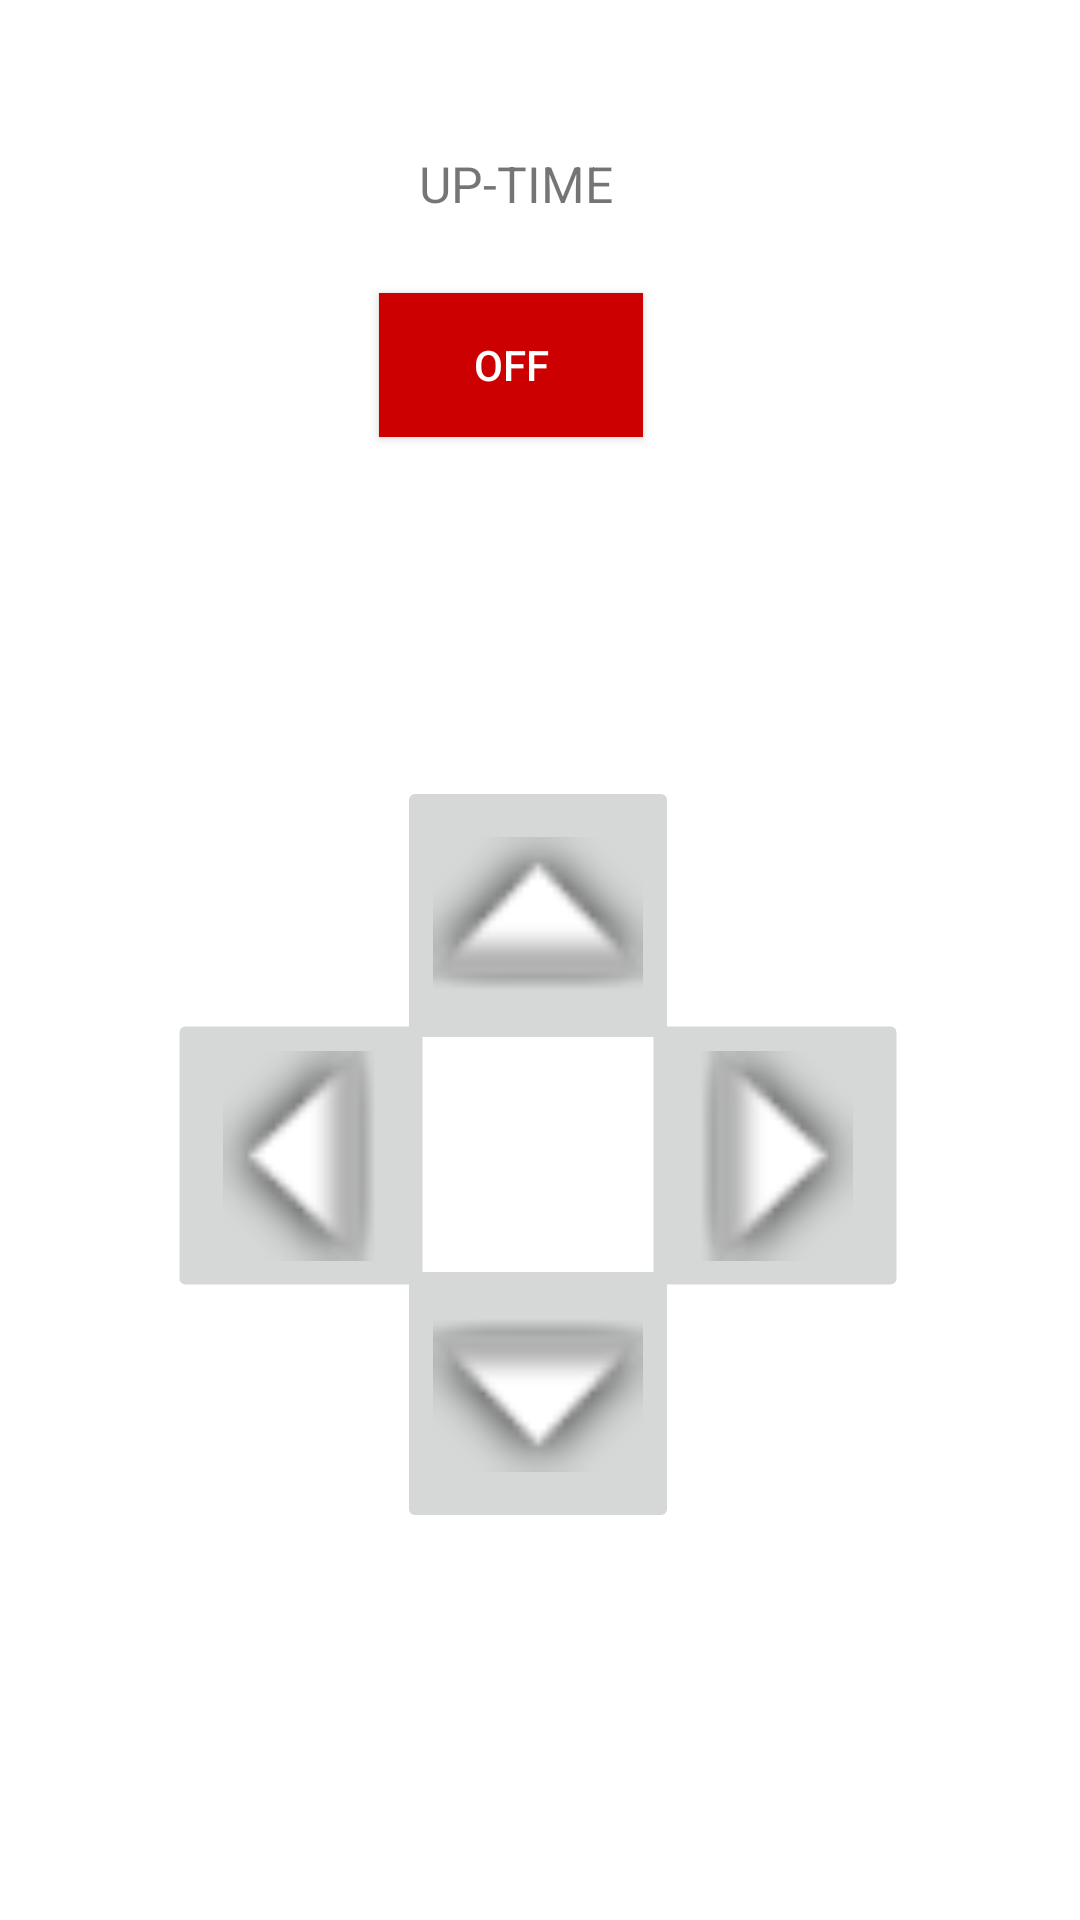

Named icons in this screenshot (1080*1920) and their bounding boxes, (x1, y1, x2, y2):
arrow up float: (397, 794, 679, 1055)
